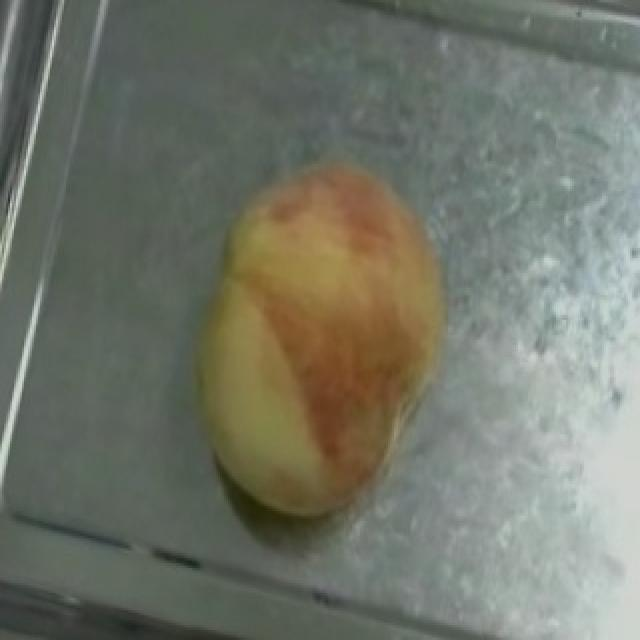Fruit: (146, 246, 474, 553)
